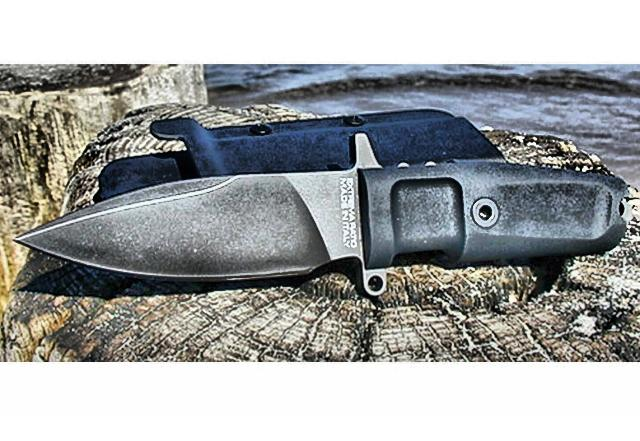knife: (1, 156, 350, 292)
